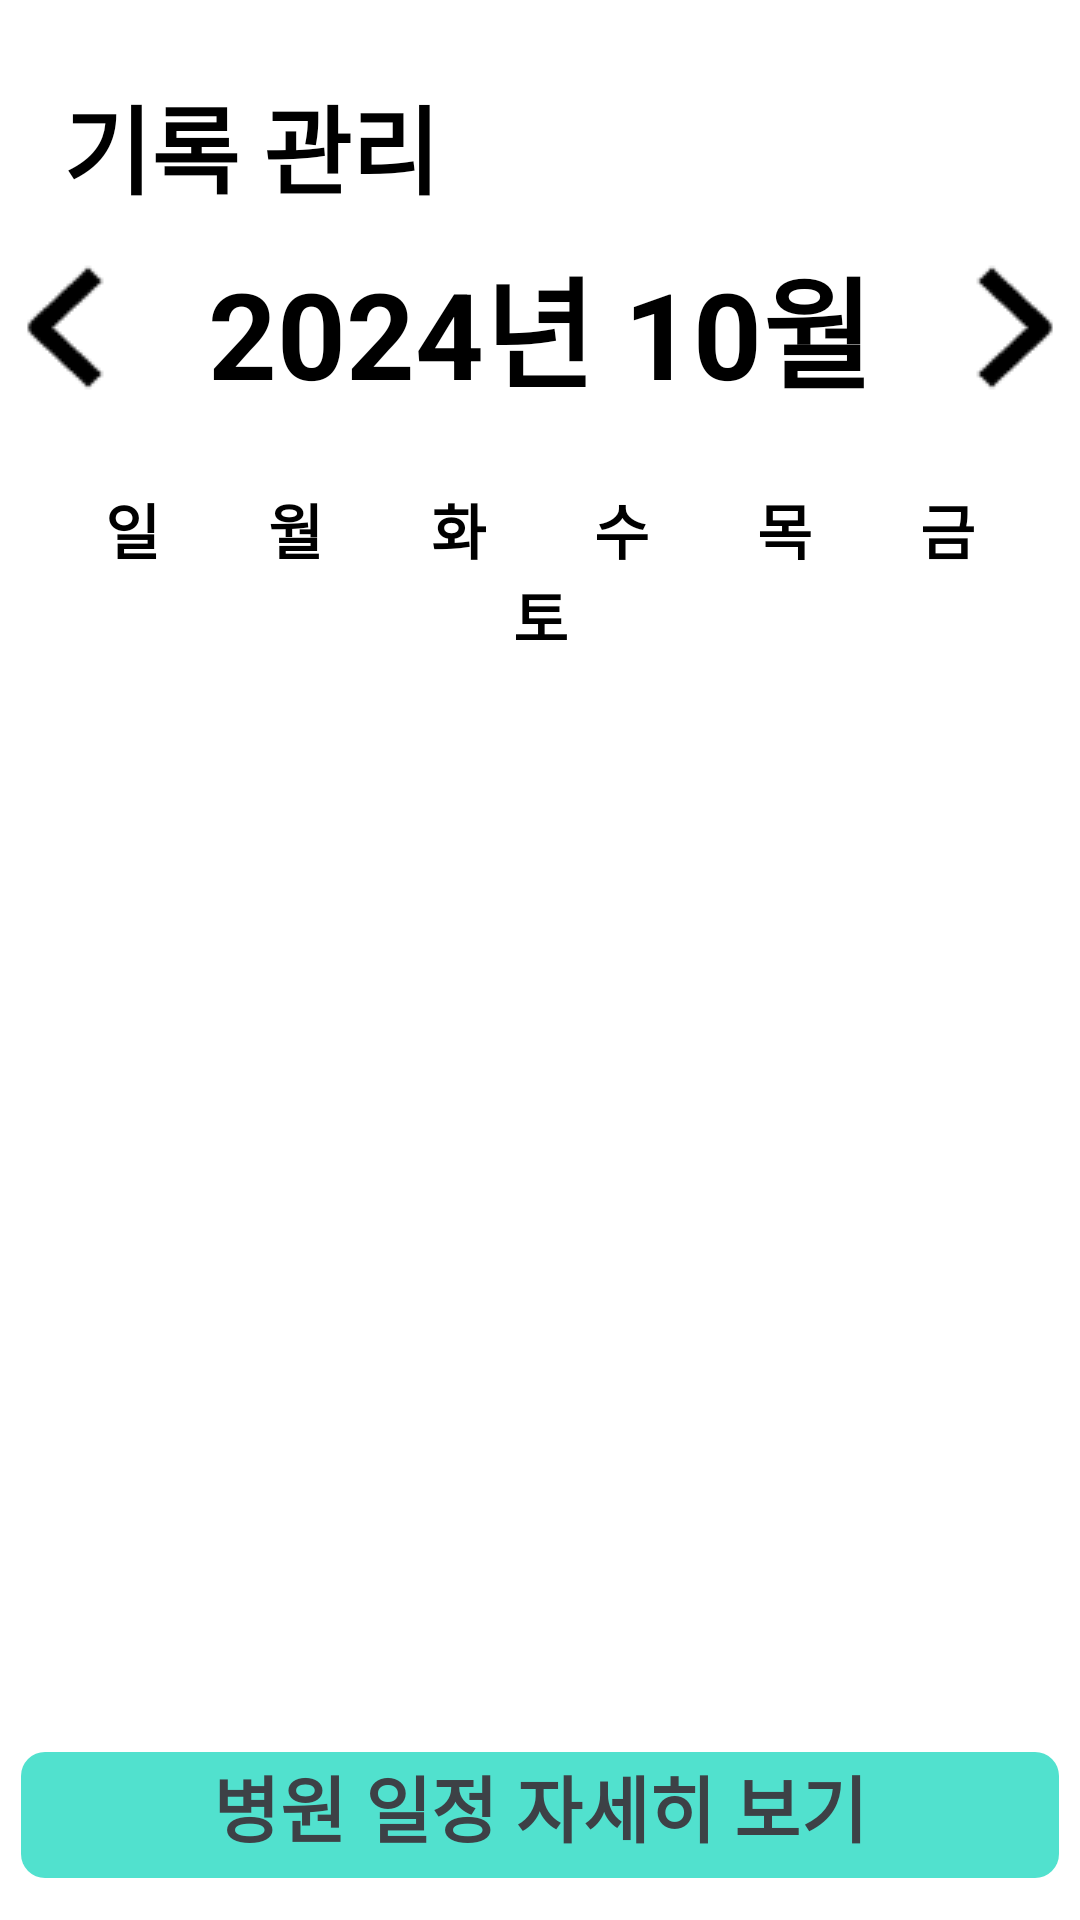

Named icons in this screenshot (1080×1920) and their centers, [x,y]:
record arrow back: [65,327]
record arrow forward: [1015,327]
